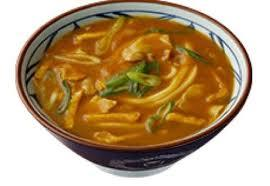curry: (14, 1, 257, 177)
